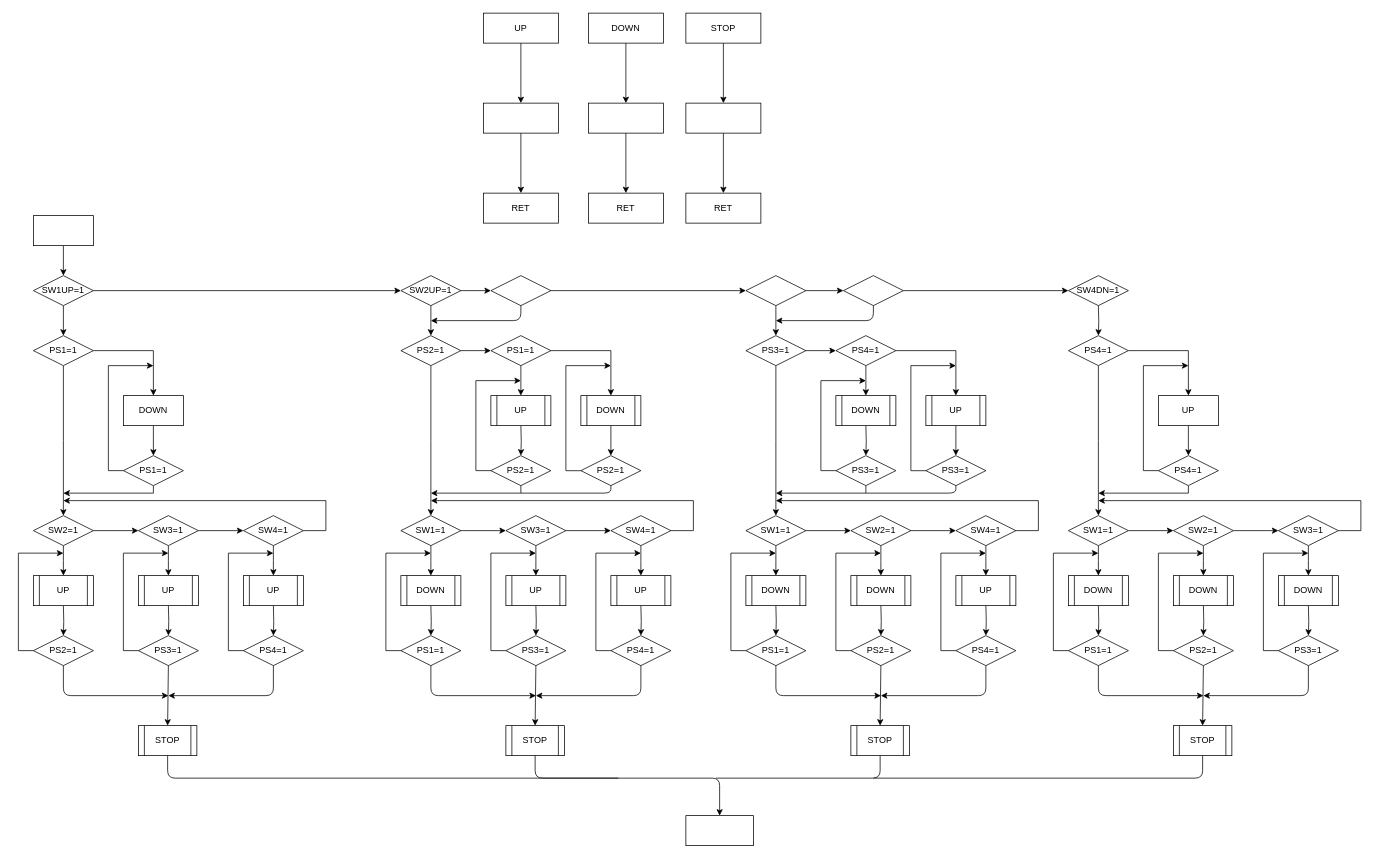
This 1380x859 diagram has some shape labels left out. The shapes that lost their labels are listed below. From the top down, each one's centre as x and y in pixels, then its label:
At (x=520, y=117): "MUP←1".
At (x=625, y=117): "MDN←1".
At (x=723, y=117): "MUP,MDN←0".
At (x=63, y=230): "START".
At (x=520, y=290): "SW2DN=1".
At (x=775, y=290): "SW3UP=1".
At (x=873, y=290): "SW3DN=1".
At (x=719, y=830): "END".
